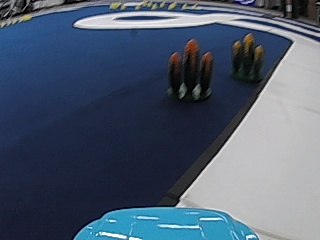corn: (167, 39, 213, 103), (230, 32, 264, 82)
